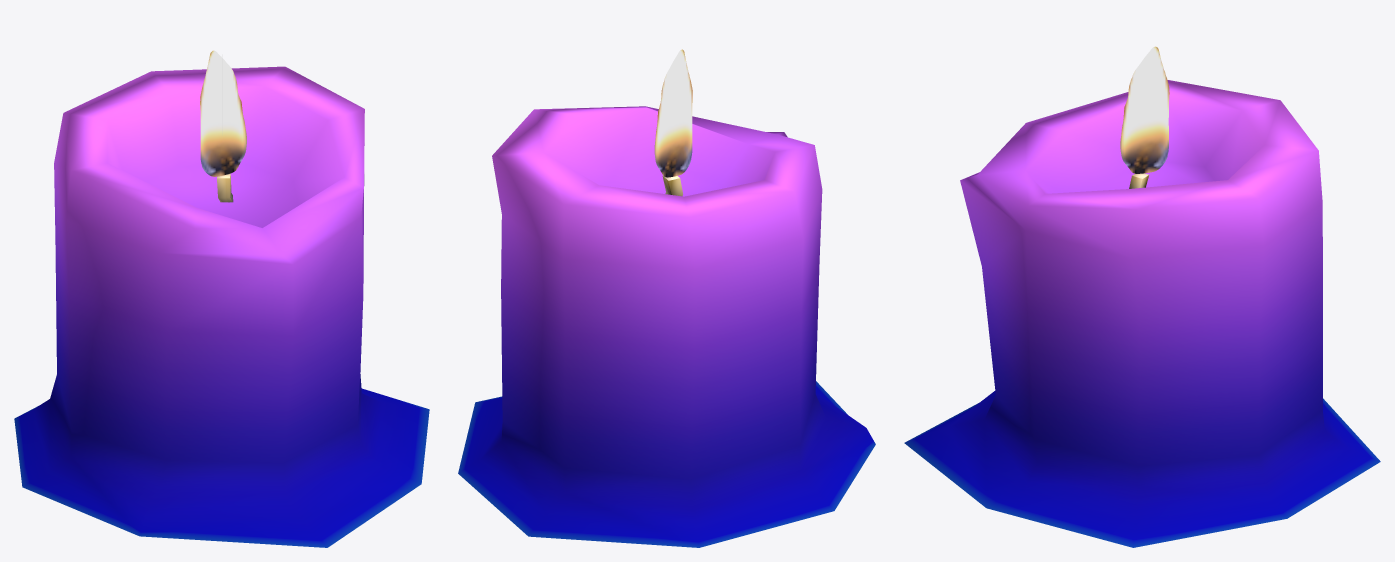
File: CandleShapeC.022.glb
The picture shows the model from 3 angles, left to right: view 1: azimuth 30°, elevation 25°; view 2: azimuth 150°, elevation 25°; view 3: azimuth 270°, elevation 25°; orthographic projection.
Parts seen in each view (by area): view 1: CandleShapeC.022; view 2: CandleShapeC.022; view 3: CandleShapeC.022.
Boxes of the visible parts, x1,y1,x2,y2 form: CandleShapeC.022: (14, 50, 429, 547); CandleShapeC.022: (458, 49, 875, 547); CandleShapeC.022: (904, 46, 1380, 547).
Size of the model in its own units: 0.1734 by 0.1799 by 0.1889.
Materials: 2 (2 with a texture image).
